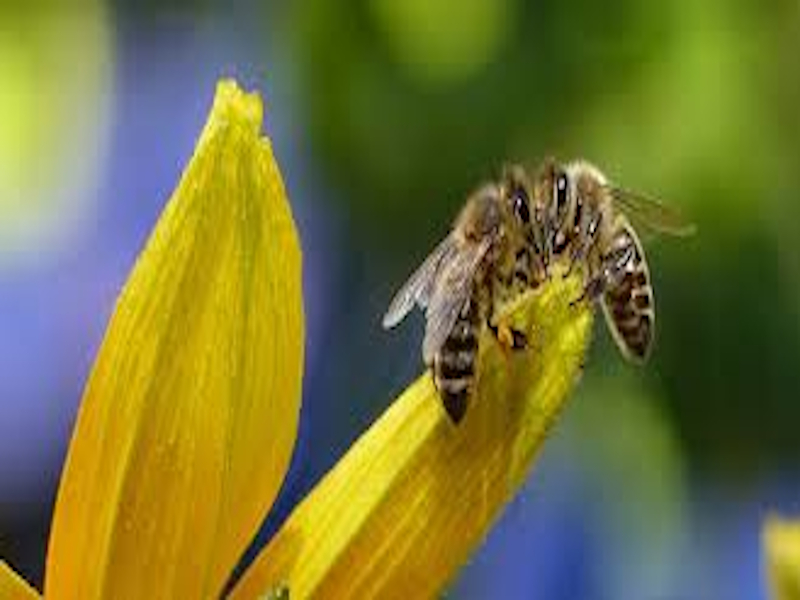abeja: (353, 152, 536, 432), (537, 143, 701, 380)
